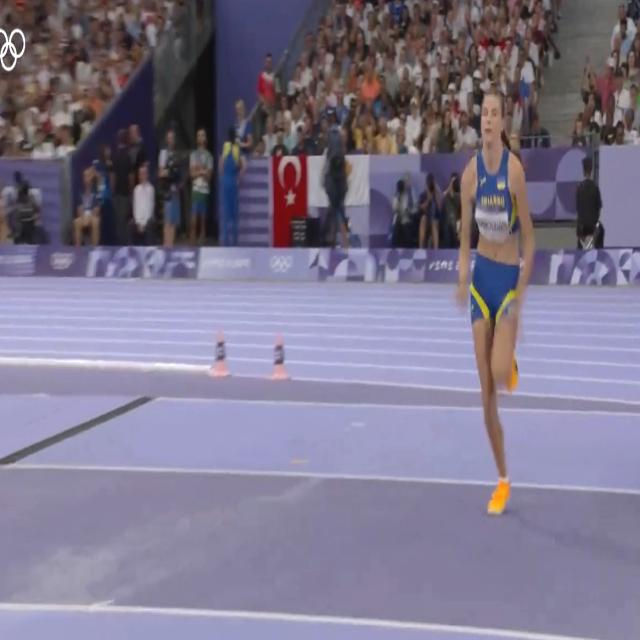run: (455, 85, 535, 518)
